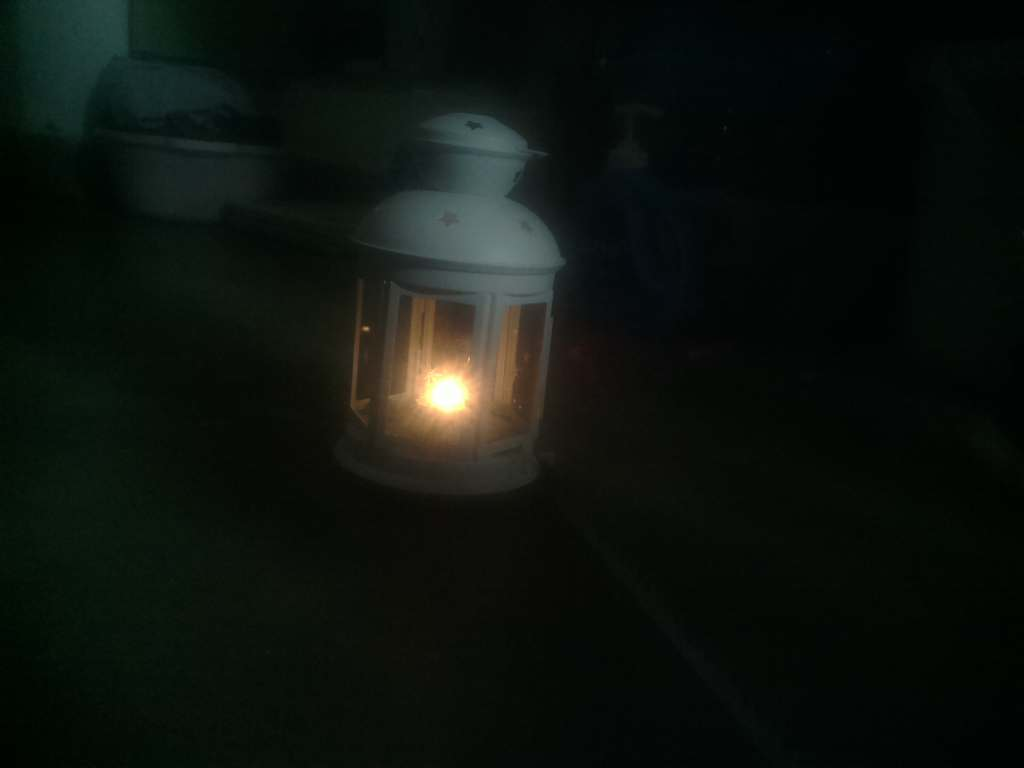fire: (408, 349, 497, 456)
